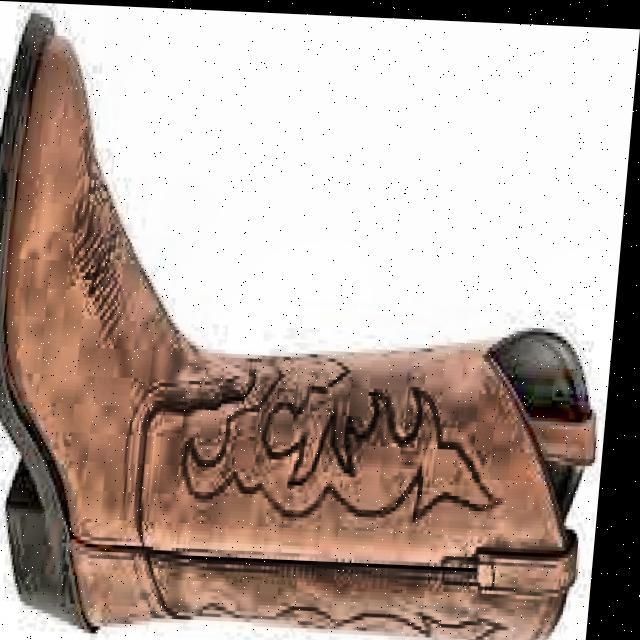shoes: (0, 20, 629, 640)
